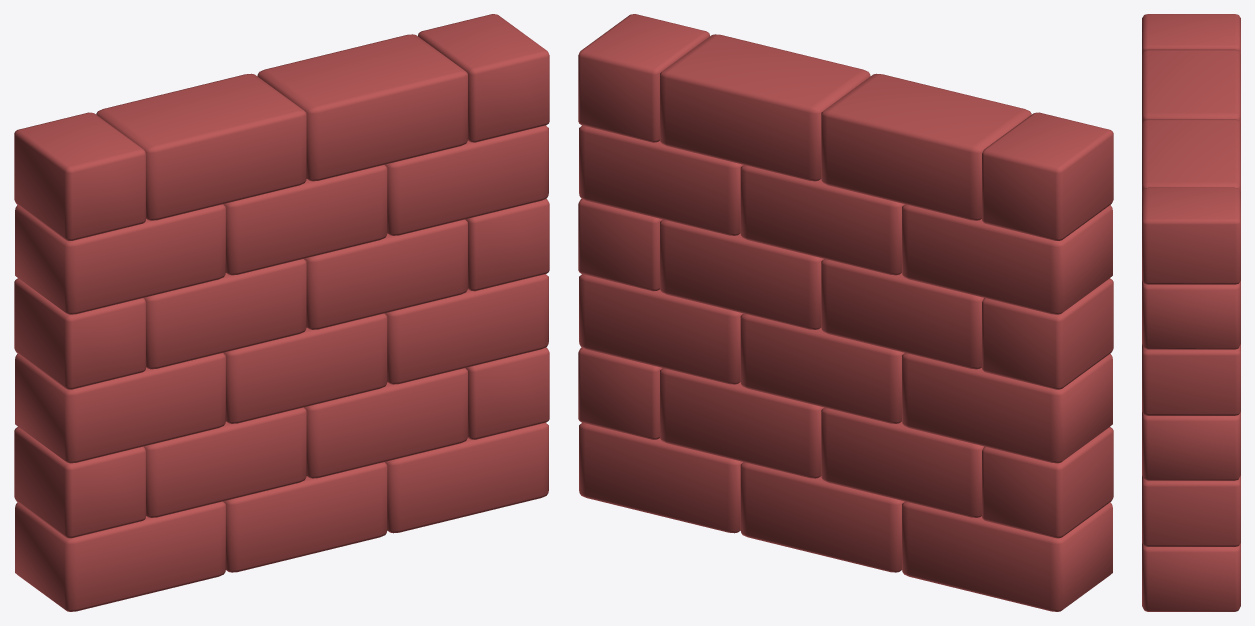
File: WallDestroyed_01.fbx
3 renders of one model, left to right at view 1: azimuth 30°, elevation 25°; view 2: azimuth 150°, elevation 25°; view 3: azimuth 270°, elevation 25°, orthographic. The views are drawn at different scales.
Parts seen in each view (by area): view 1: Cube.008, Cube.009, Cube.015, Cube.010, Cube.003, BrickHalf.004, Cube.004, Cube.001, Cube.006, Cube.011, Cube.013, Cube.002 (+9 smaller); view 2: Cube.008, Cube.009, Cube.015, Cube.010, Cube.003, BrickHalf.004, Cube.004, Cube.001, Cube.006, Cube.011, Cube.013, Cube.002 (+9 smaller); view 3: BrickHalf.005, Cube.009, Cube.008, BrickHalf.002, BrickHalf.006, Cube.014, Cube.007, Cube.002, BrickHalf.004.
Boxes of the visible parts, x1,y1,x2,y2 form: Cube.008: [257, 34, 467, 181]; Cube.009: [96, 73, 306, 220]; Cube.015: [15, 204, 225, 314]; Cube.010: [15, 501, 225, 611]; Cube.003: [15, 353, 225, 463]; BrickHalf.004: [14, 112, 145, 240]; Cube.004: [304, 219, 467, 329]; Cube.001: [223, 313, 387, 423]; Cube.006: [223, 462, 387, 572]; Cube.011: [304, 368, 467, 478]; Cube.013: [223, 165, 387, 275]; Cube.002: [384, 274, 548, 384]; Cube.008: [660, 34, 870, 181]; Cube.009: [821, 73, 1031, 220]; Cube.015: [902, 204, 1112, 314]; Cube.010: [902, 501, 1112, 611]; Cube.003: [902, 353, 1112, 463]; BrickHalf.004: [982, 112, 1113, 240]; Cube.004: [660, 219, 823, 329]; Cube.001: [740, 313, 904, 423]; Cube.006: [740, 462, 904, 572]; Cube.011: [660, 368, 823, 478]; Cube.013: [740, 165, 904, 275]; Cube.002: [579, 274, 743, 384]; BrickHalf.005: [1142, 187, 1240, 284]; Cube.009: [1142, 49, 1240, 123]; Cube.008: [1142, 119, 1240, 191]; BrickHalf.002: [1142, 344, 1240, 415]; BrickHalf.006: [1142, 475, 1240, 546]; Cube.014: [1142, 281, 1240, 349]; Cube.007: [1142, 543, 1240, 611]; Cube.002: [1142, 412, 1240, 480]; BrickHalf.004: [1142, 14, 1240, 54].
Bounding box in the file's own units: 300 × 264 × 60.
